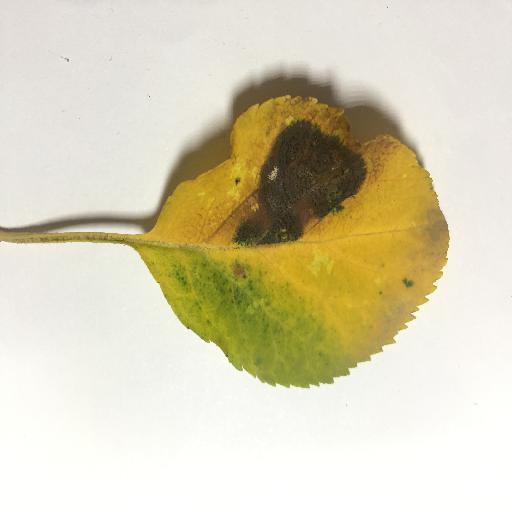Brown_Spot: (243, 120, 374, 238)
